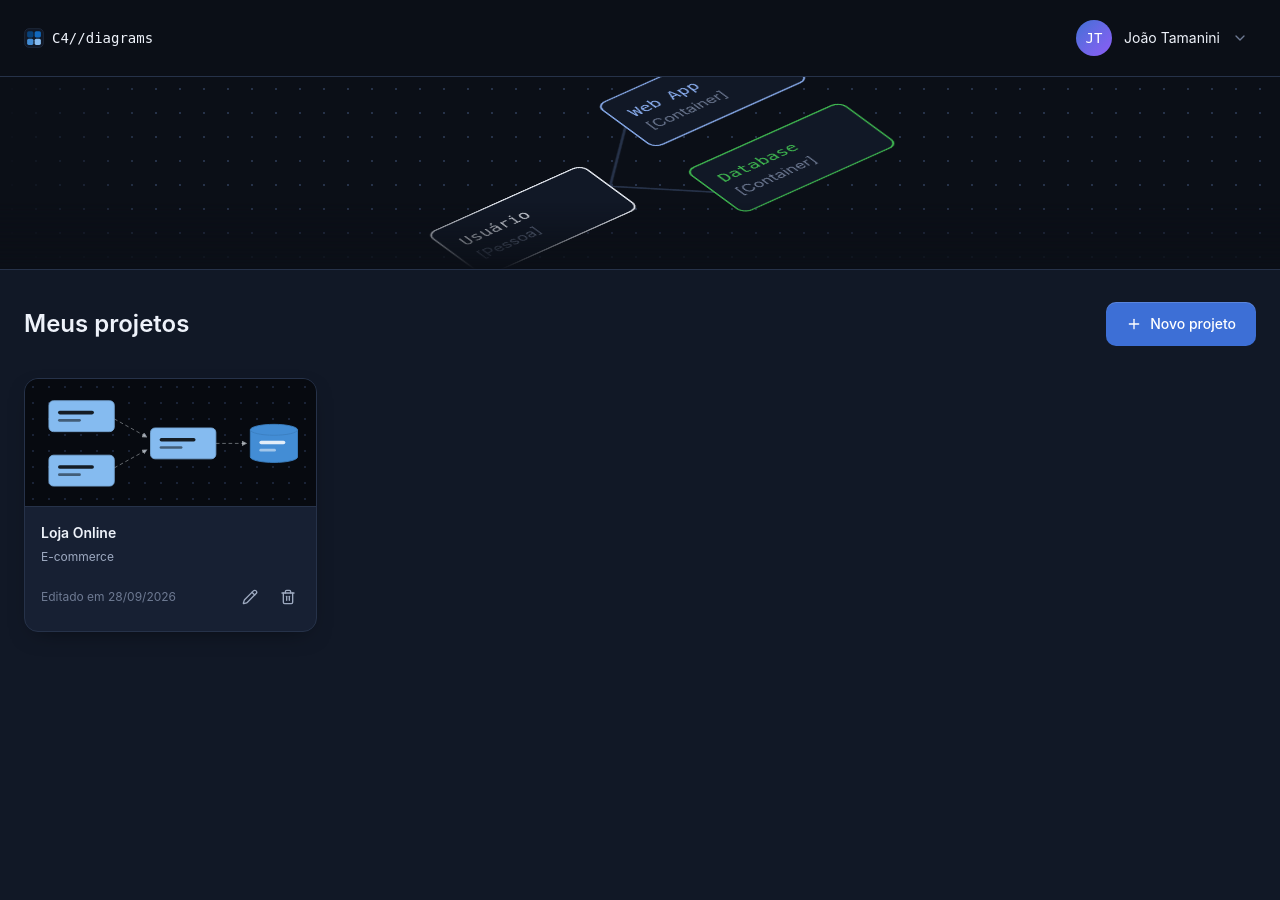
Test: Dashboard › exclusão (RF06) › não deve excluir quando o usuário cancelar
expect the link "Loja Online" is shown: met, box [41,524,116,541]
Click the button named "Excluir projeto Loja Online" at (288, 596), box [270,578,306,614]
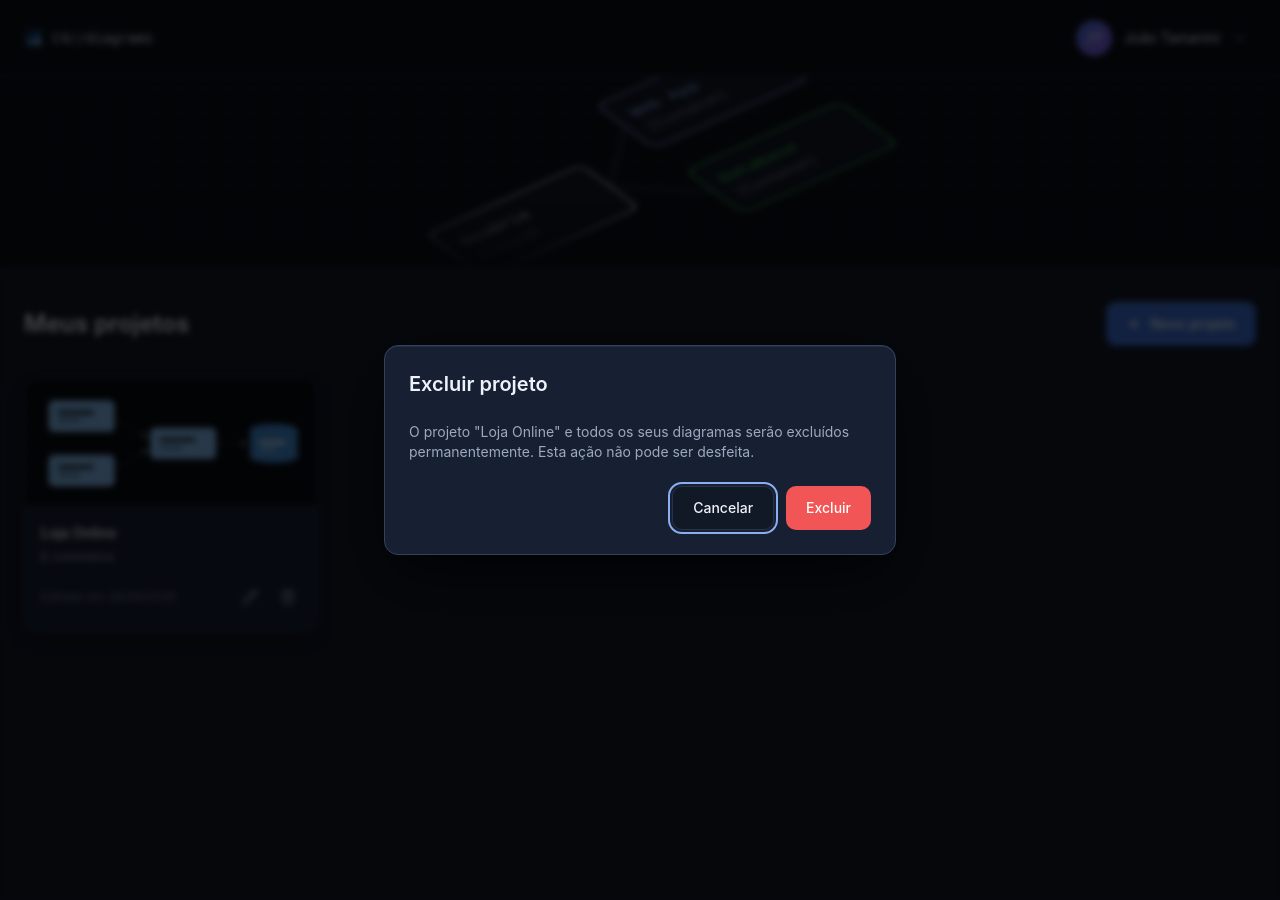
Click the button "Cancelar" at (723, 508), box [672,486,774,530]
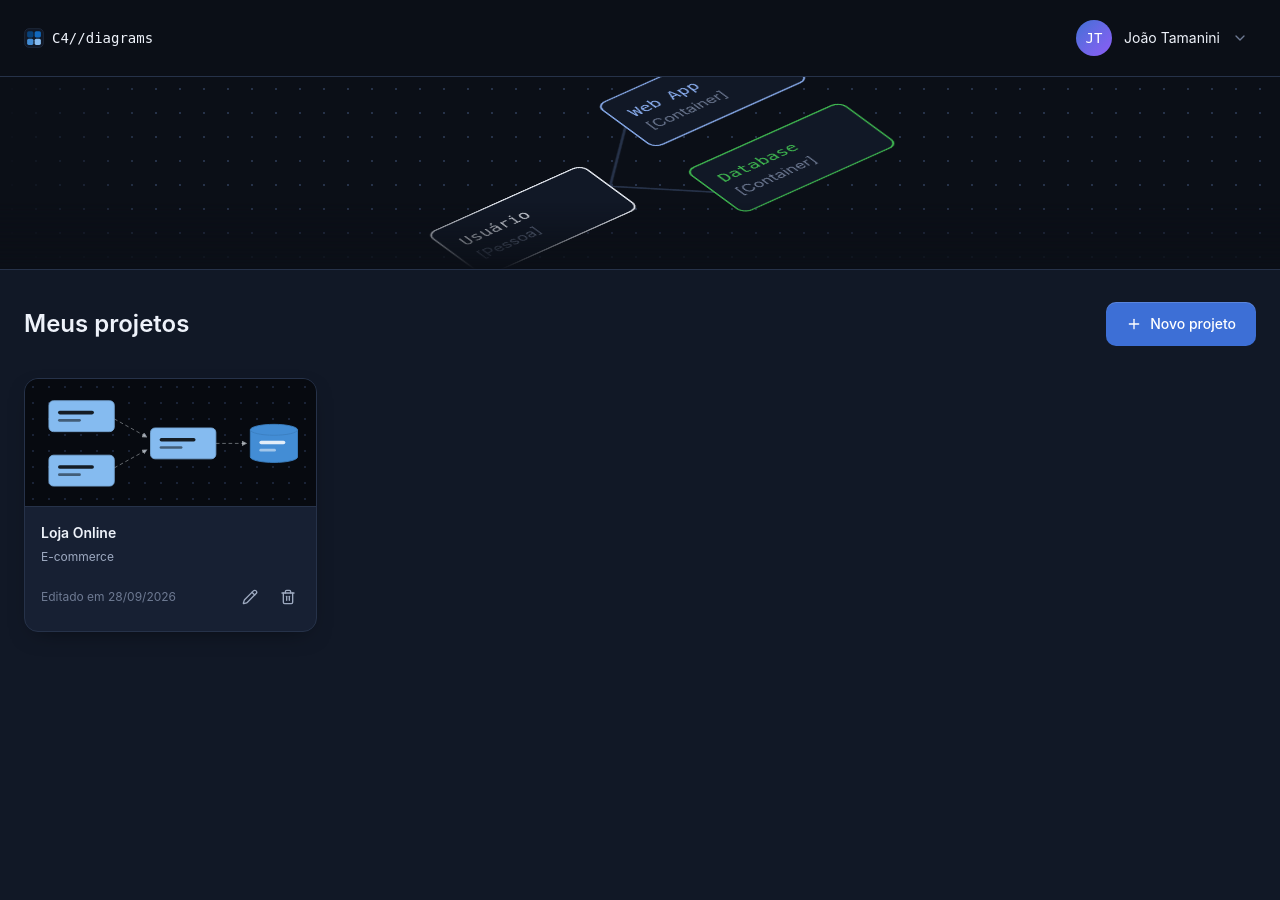
expect the link "Loja Online" is shown: met, box [41,524,116,541]
expect the dialog is gone: met
